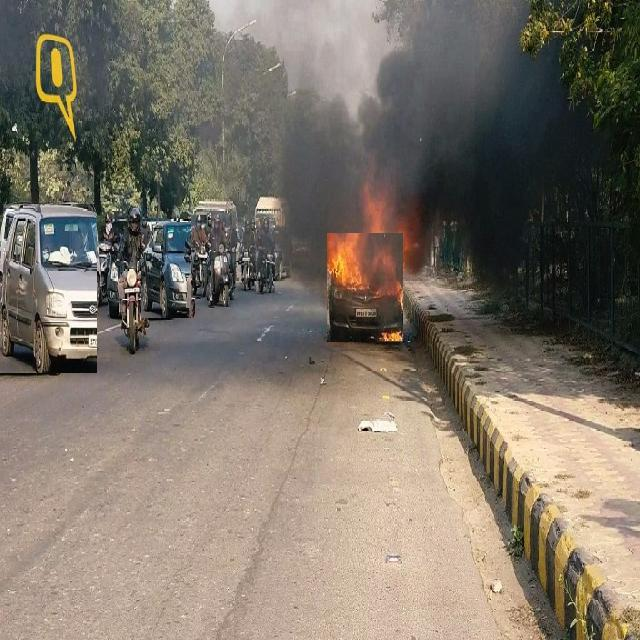accident: (328, 234, 403, 342)
car: (0, 205, 97, 373), (141, 222, 195, 318)
motorcycle: (119, 207, 150, 352), (208, 213, 230, 307), (191, 215, 211, 297), (256, 218, 275, 293), (99, 218, 115, 303), (240, 220, 256, 290)
